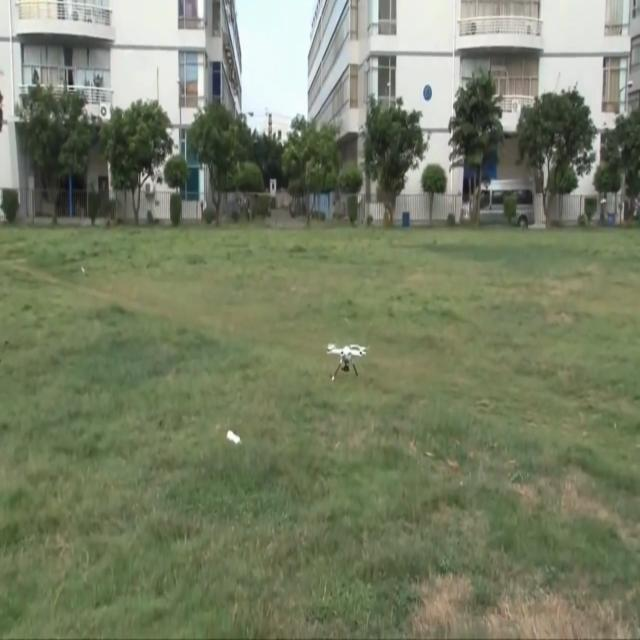drone: (326, 341, 369, 382)
